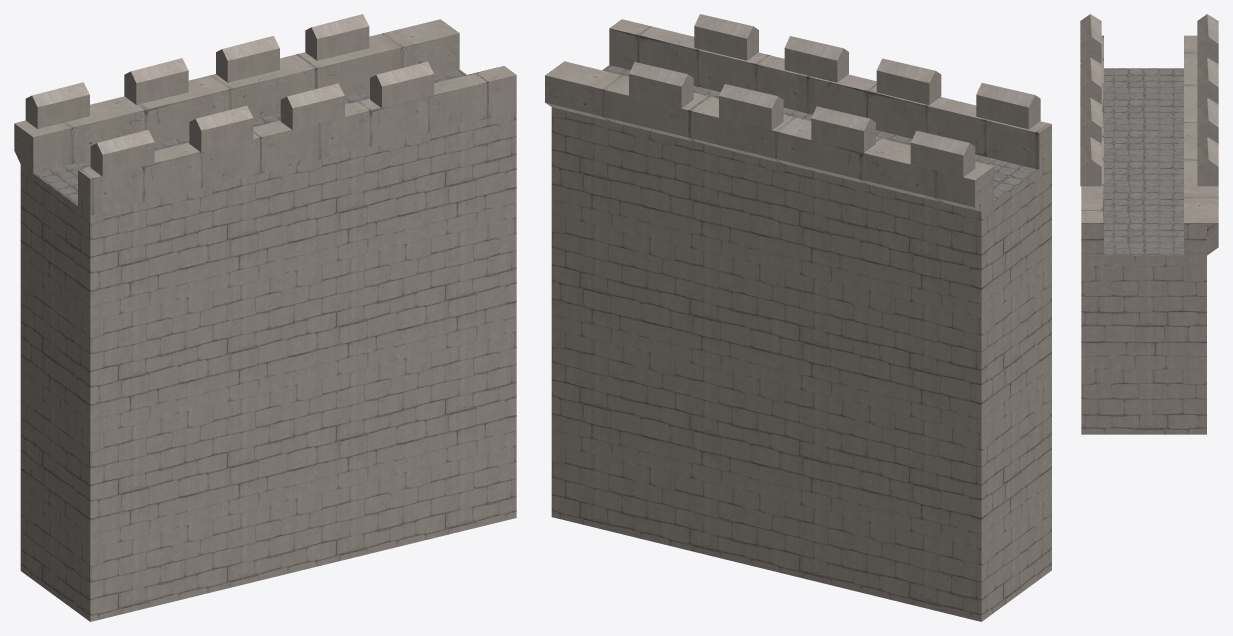
The model's file is CastleWall_H.fbx.
3 renders of one model, left to right at view 1: azimuth 30°, elevation 25°; view 2: azimuth 150°, elevation 25°; view 3: azimuth 270°, elevation 25°, orthographic. The views are drawn at different scales.
Visible parts, largest first — view 1: CastleWall_H; view 2: CastleWall_H; view 3: CastleWall_H.
Boxes of the visible parts, left/top/right/bottom form: CastleWall_H: left=14, top=14, right=516, bottom=621; CastleWall_H: left=545, top=14, right=1051, bottom=621; CastleWall_H: left=1080, top=14, right=1218, bottom=434.
Size of the model in its own units: 4136 by 4380 by 1290.
2 materials, 2 textured.
